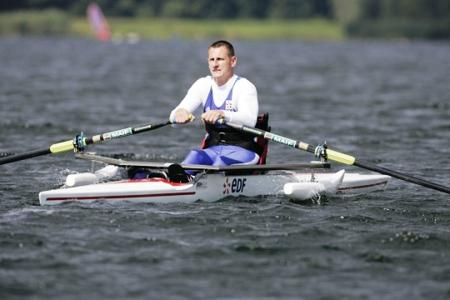person: (169, 39, 260, 185)
